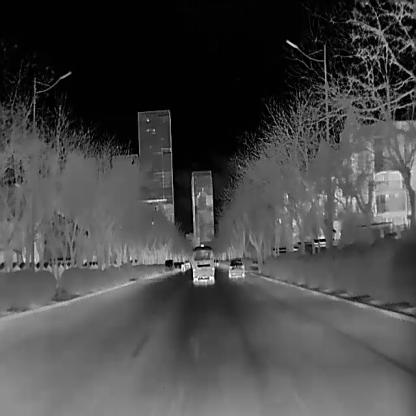bus: (190, 243, 214, 283)
car: (227, 257, 244, 278), (163, 258, 174, 272), (174, 260, 180, 270), (180, 260, 185, 271), (185, 259, 189, 270)
